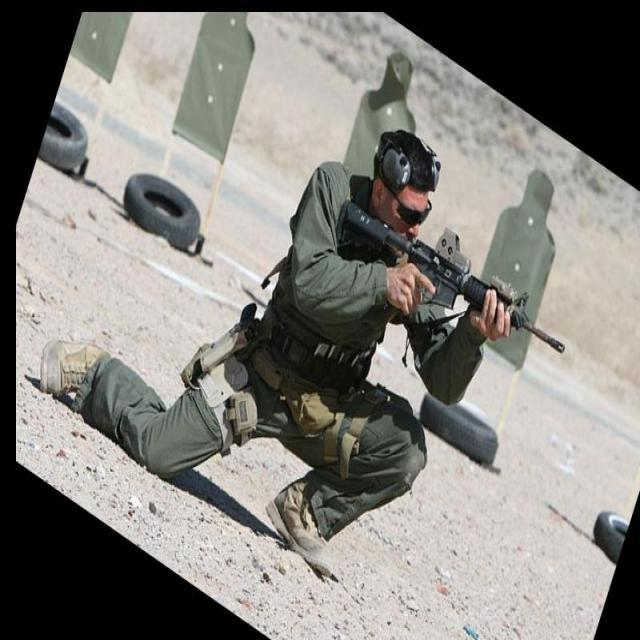weapon: (336, 202, 567, 355)
